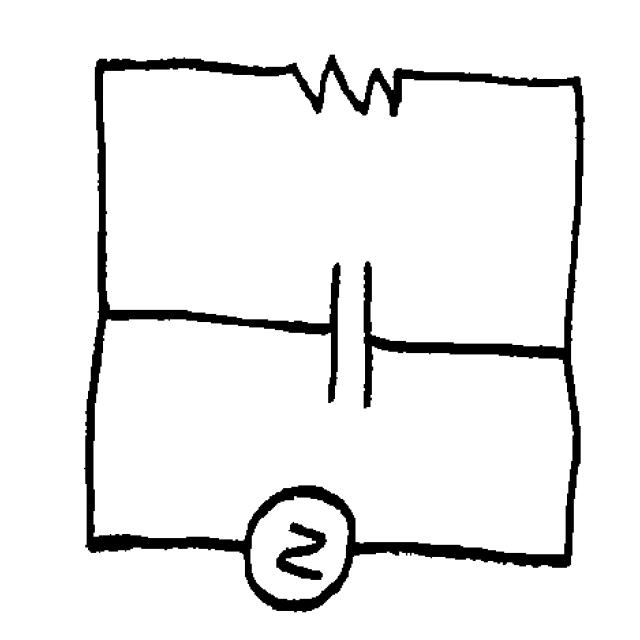ac: (233, 477, 369, 617)
capacitor: (314, 251, 393, 426)
resistor: (271, 44, 416, 128)
